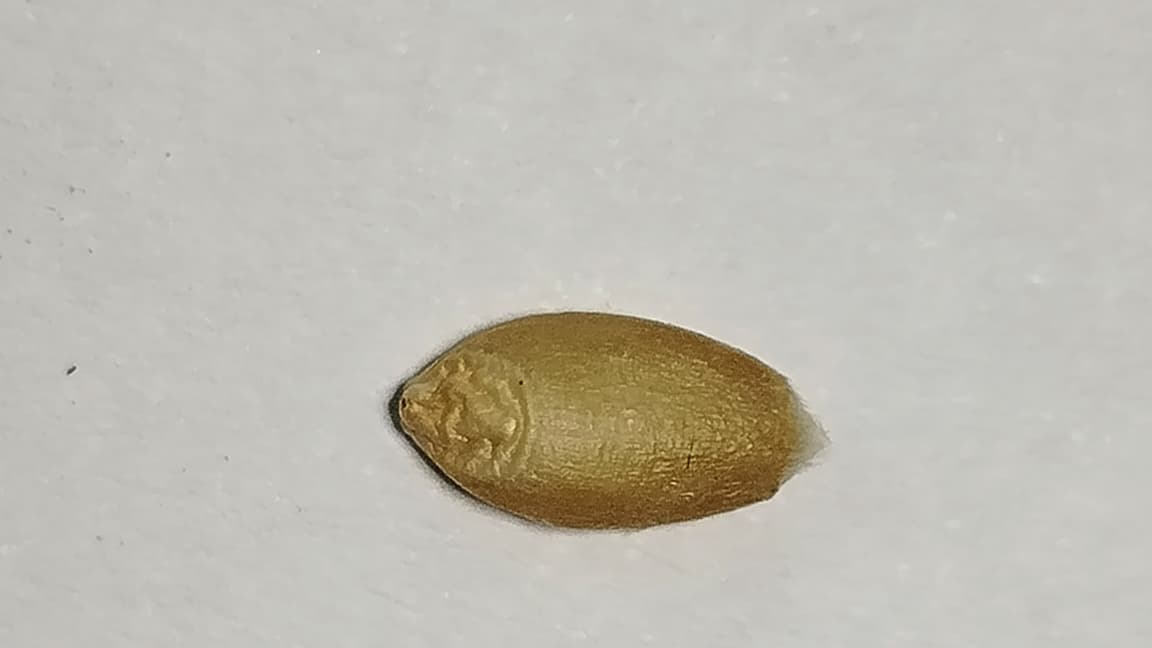healthy: (396, 312, 825, 526)
